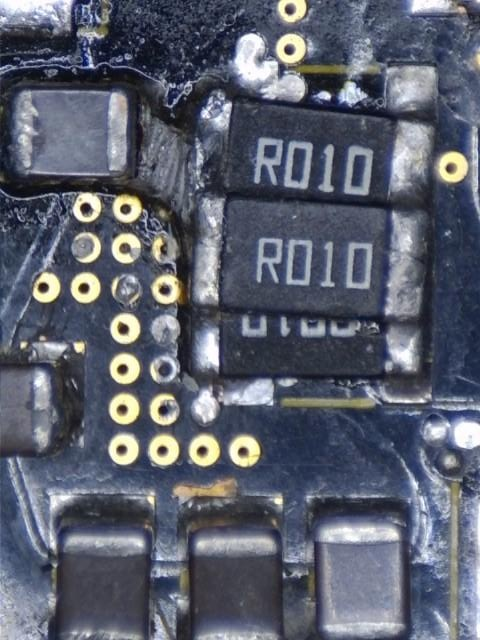pcb_defect: (187, 61, 439, 410), (105, 32, 306, 427), (381, 65, 439, 405)
